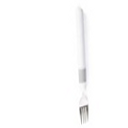Fork: (64, 5, 102, 126)
